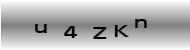4: (62, 25, 78, 39)
K: (114, 24, 130, 39)
Z: (92, 26, 108, 40)
n: (134, 18, 149, 29)
u: (33, 23, 49, 34)
